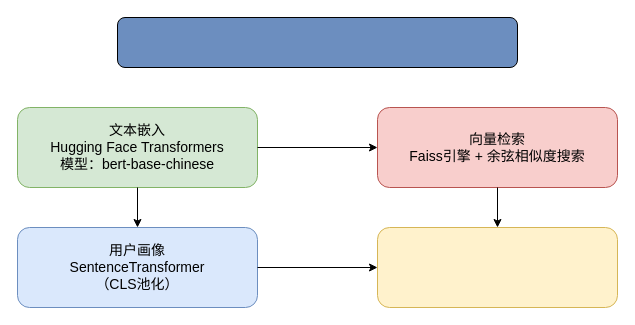
This 635x325 diagram has some shape labels left out. The shapes that lost their labels are listed below. From the top down, each one's centre as x and y in pixels, then its label:
At (317,42): "技术栈".
At (497,267): "检索增强生成 Deepseek API（RAG）".
